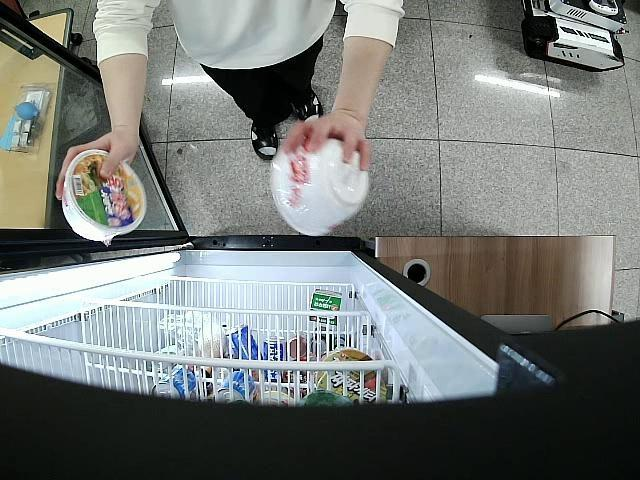09_yukGaeJang: (270, 137, 370, 236), (60, 150, 147, 244)
